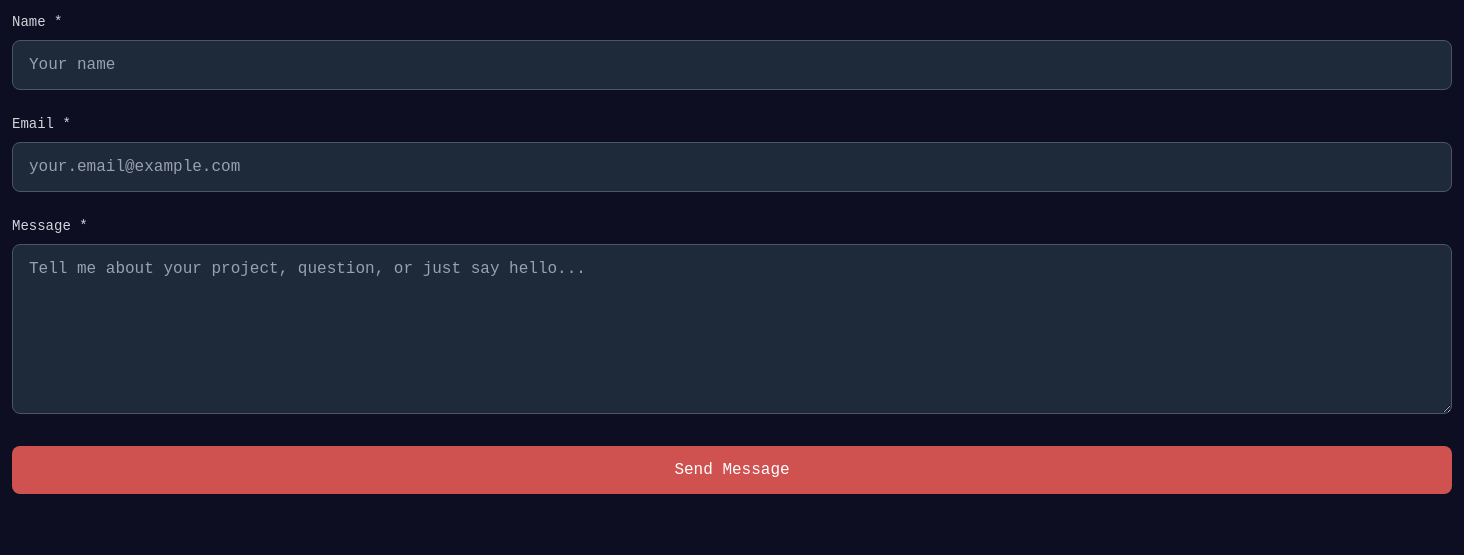
Test: ContactForm › form validation › should validate name minimum length
This screenshot has width=1464, height=555.
Type "a" into the field labelled "Name *".
click(732, 65); type("a")  # box x1=12 y1=40 x2=1452 y2=90
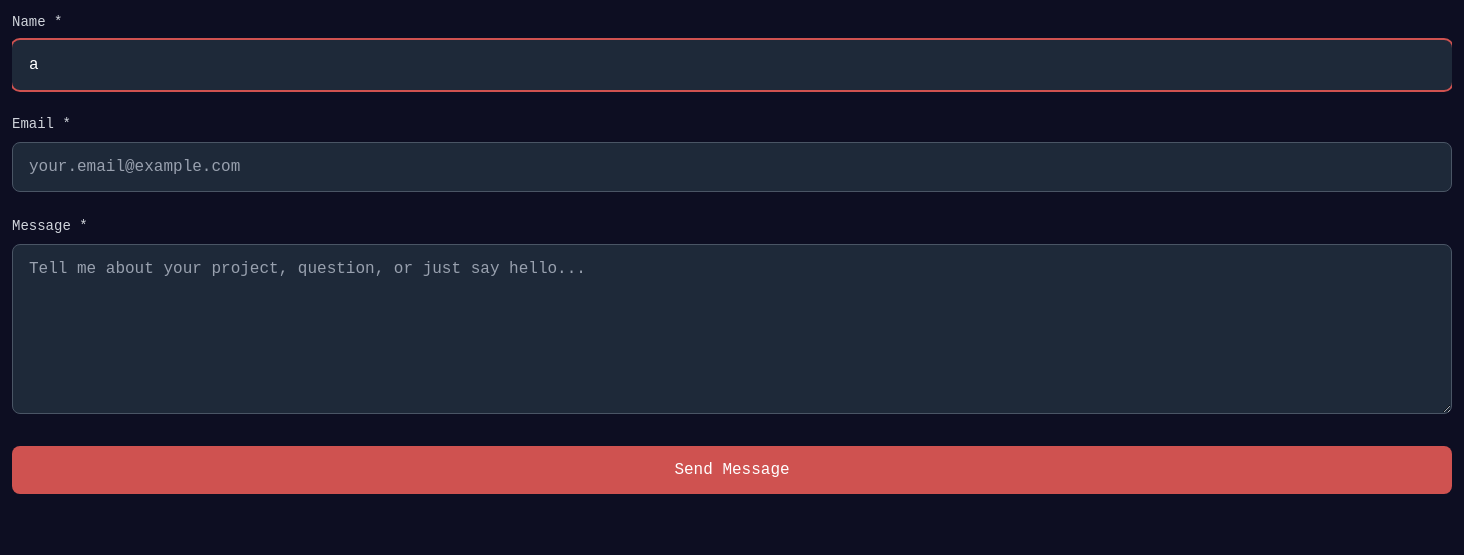
Type "test@example.com" into the field labelled "Email *".
click(732, 167); type("test@example.com")  # box x1=12 y1=142 x2=1452 y2=192
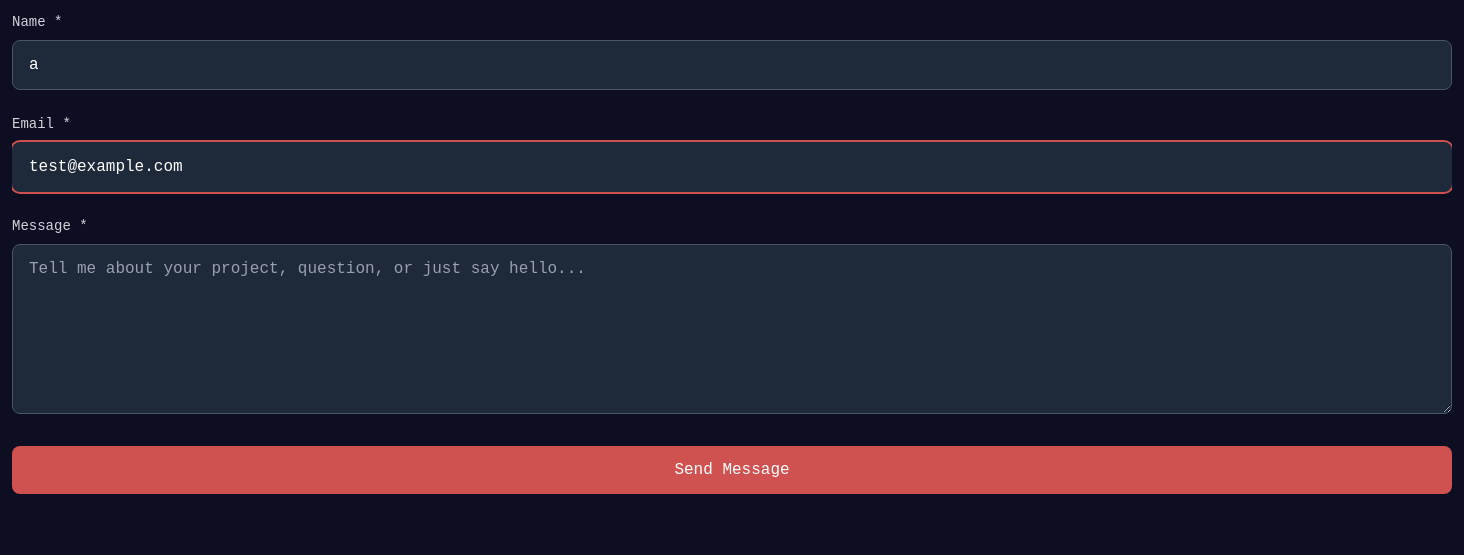
Type "This is a test message" into the text box labelled "Message *".
click(732, 329); type("This is a test message")  # box x1=12 y1=244 x2=1452 y2=414
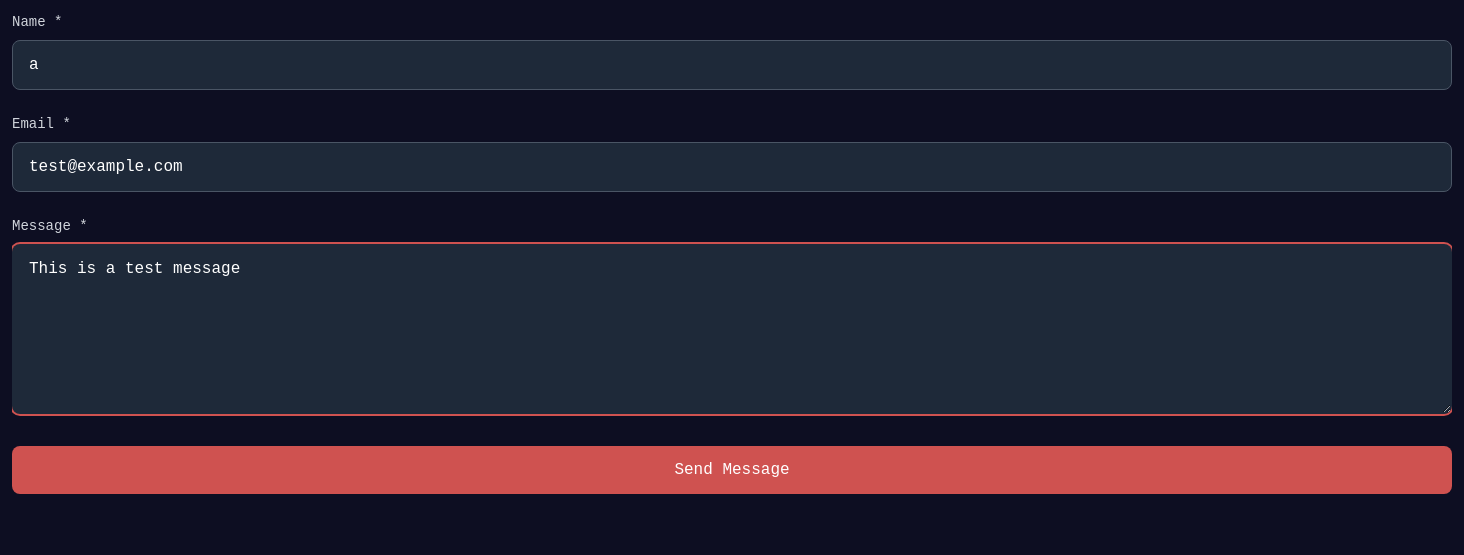
Click the button "Send Message".
click(732, 470)  # box x1=12 y1=446 x2=1452 y2=494
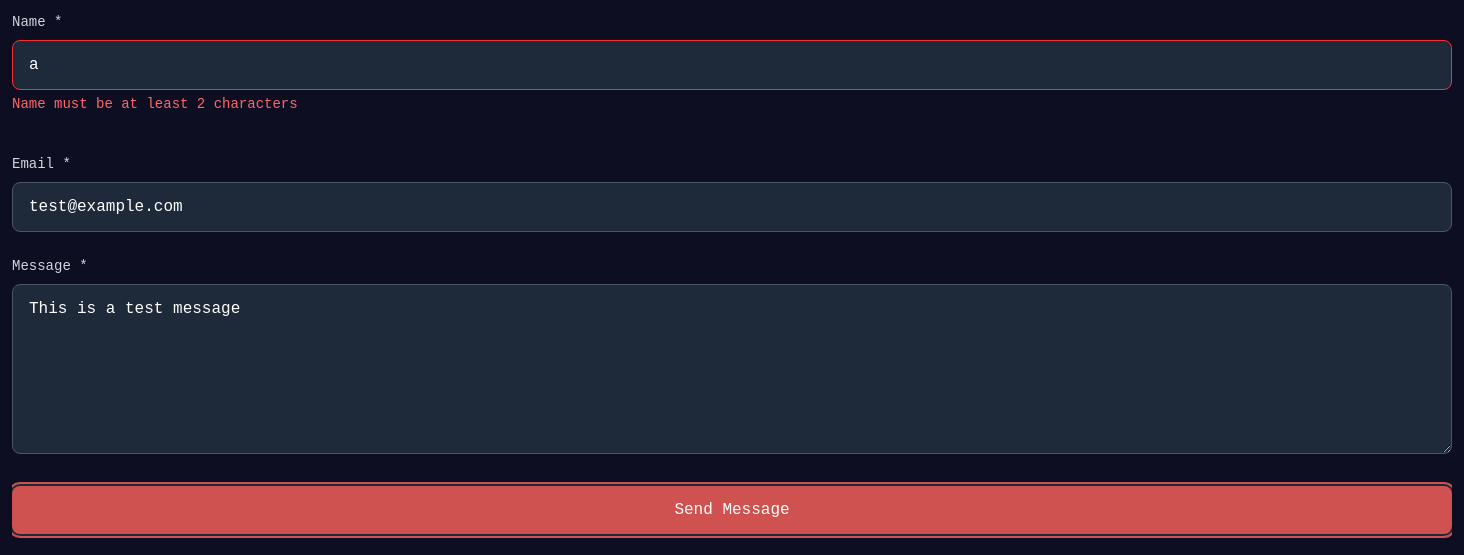
Result: the text "Name must be at least 2 characters" is shown at x1=12 y1=96 x2=298 y2=112
